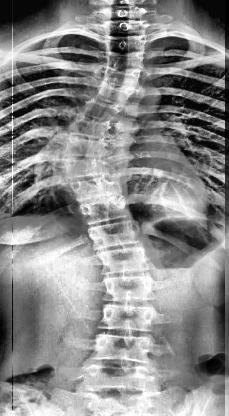Vertebrae: (83, 360, 155, 396), (92, 332, 154, 364), (99, 272, 157, 304), (98, 302, 156, 334), (84, 220, 144, 250), (95, 245, 151, 275), (68, 176, 124, 202), (62, 155, 117, 181), (62, 132, 110, 160), (78, 199, 132, 223), (79, 96, 125, 124), (68, 112, 112, 140), (100, 65, 144, 91), (94, 82, 134, 106), (102, 51, 146, 72), (104, 36, 146, 54), (104, 21, 148, 38), (104, 5, 148, 21)
